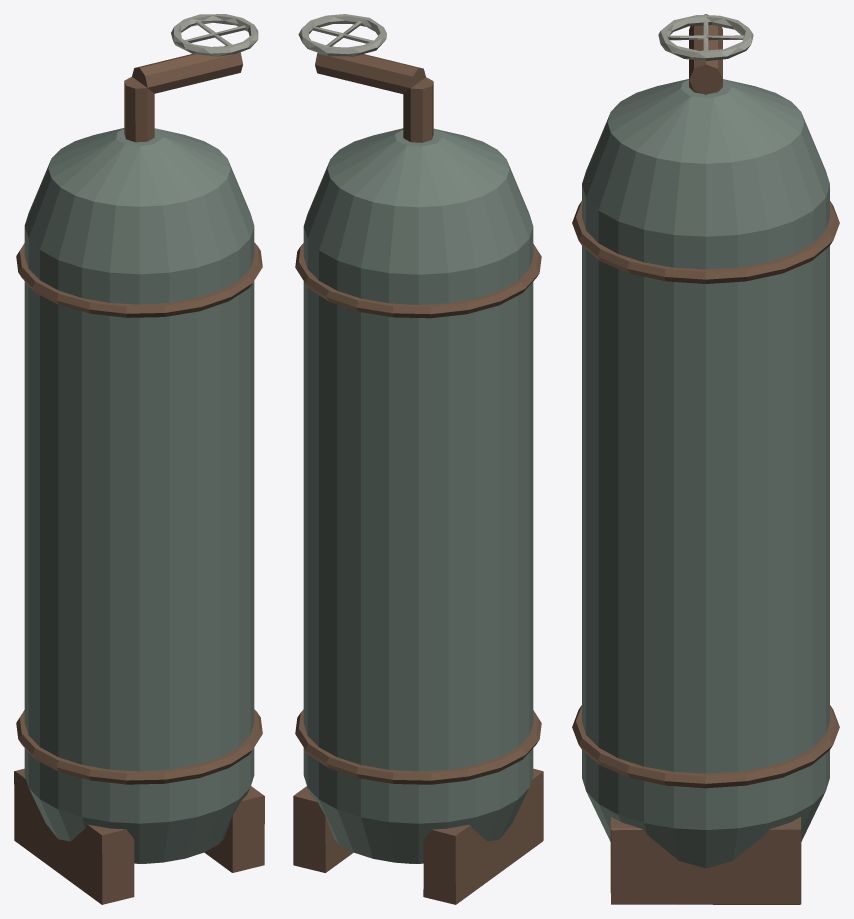
The model's file is tank_low.glb.
3 renders of one model, left to right at view 1: azimuth 30°, elevation 25°; view 2: azimuth 150°, elevation 25°; view 3: azimuth 270°, elevation 25°, orthographic. The views are drawn at different scales.
Parts seen in each view (by area): view 1: tank.001; view 2: tank.001; view 3: tank.001.
Boxes of the visible parts, <box> form: tank.001: <box>14,14,264,904</box>; tank.001: <box>293,14,543,904</box>; tank.001: <box>572,14,839,904</box>.
Size of the model in its own units: 0.645 by 2.24 by 0.626.
